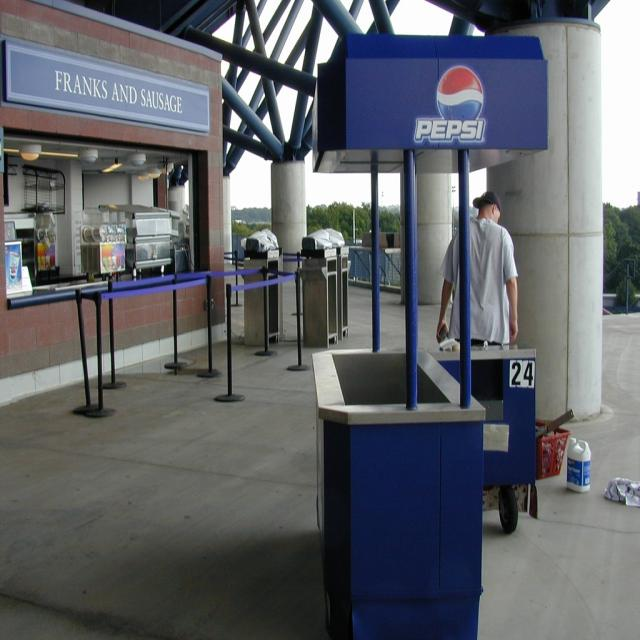pepsi: (437, 63, 487, 122)
